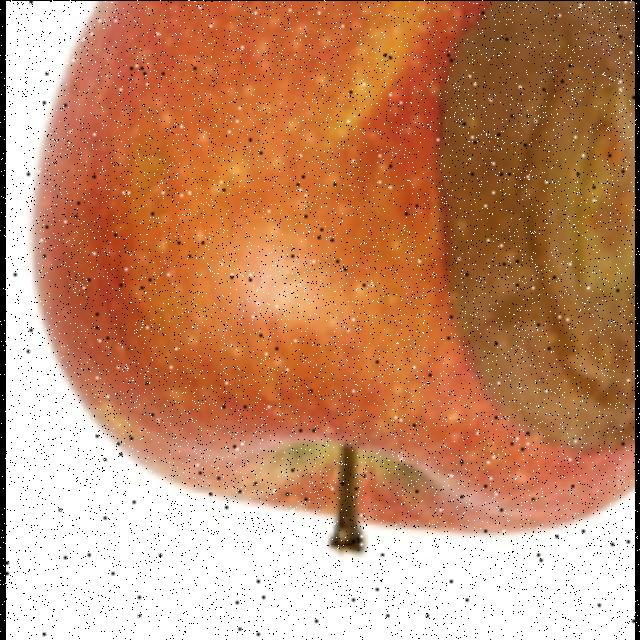Apel Tidak Segar: (25, 0, 635, 542)
